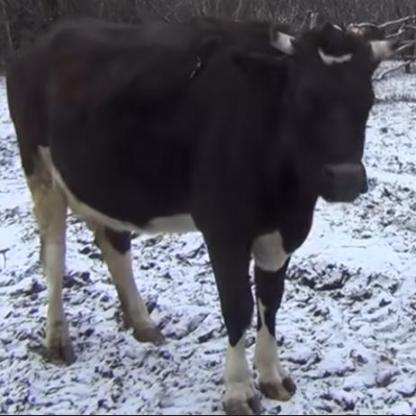cow: (6, 18, 402, 416)
